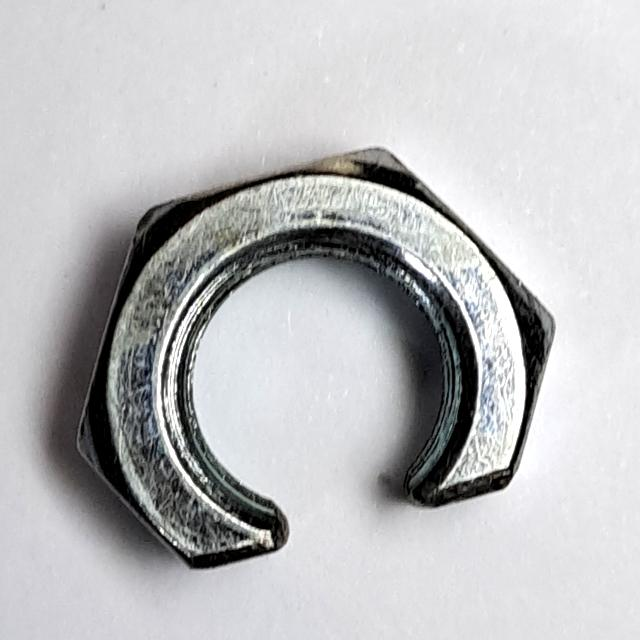Fracture: (64, 136, 569, 578)
